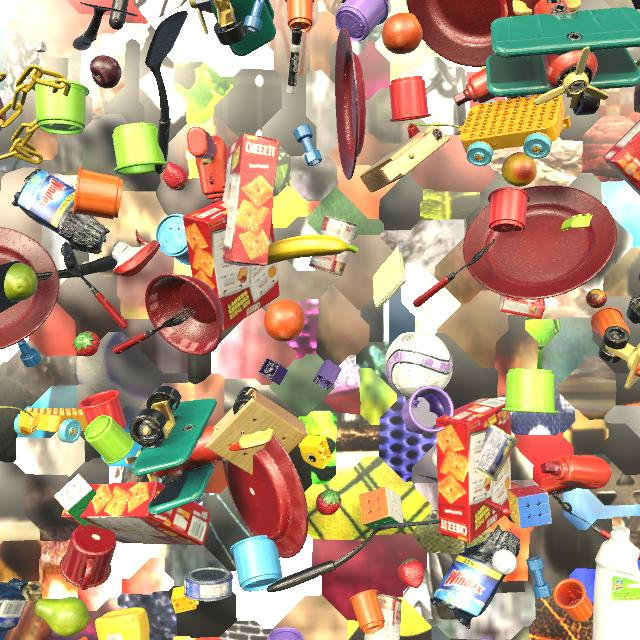ycb_003_cracker_box: (183, 200, 280, 331), (436, 398, 511, 543), (61, 481, 210, 545), (222, 133, 279, 266), (603, 120, 640, 195), (500, 0, 508, 18)
ycb_005_tomato_soup_can: (309, 215, 357, 276), (364, 594, 402, 640)
ycb_006_mustard_bottle: (95, 607, 150, 640)
ycb_007_tuna_fish_can: (183, 567, 233, 602)
ycb_008_pudding_box: (341, 0, 388, 3)
ycb_009_gelatin_box: (500, 295, 545, 320)
ycb_010_potted_meat_can: (476, 423, 518, 481), (634, 59, 640, 113)
ycb_011_banana: (259, 235, 358, 266)
ycb_012_strawberry: (398, 559, 424, 588), (163, 162, 188, 191), (73, 331, 100, 357), (316, 489, 341, 515)
ycb_015_peach: (501, 152, 537, 187)
ycb_016_pear: (34, 597, 90, 637), (4, 263, 38, 302)
ycb_017_orange: (264, 299, 305, 342), (382, 12, 423, 54)
ycb_018_plum: (90, 55, 121, 89)
